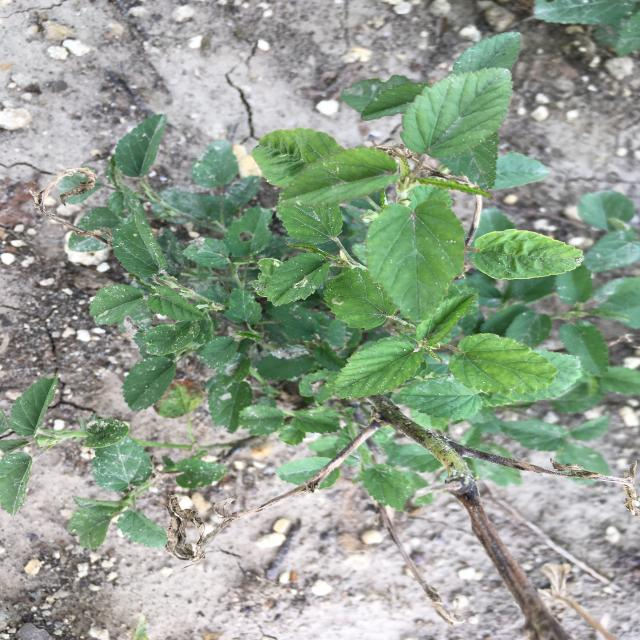PricklySida: (0, 31, 639, 549)
